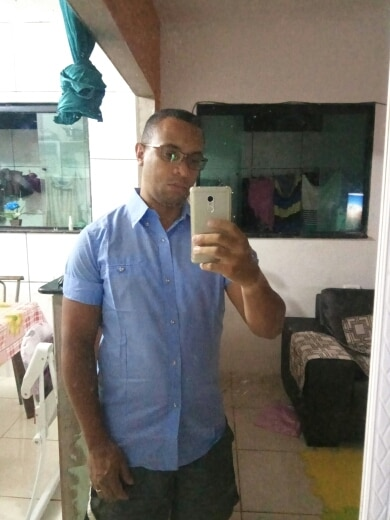shirts: (58, 190, 241, 475)
